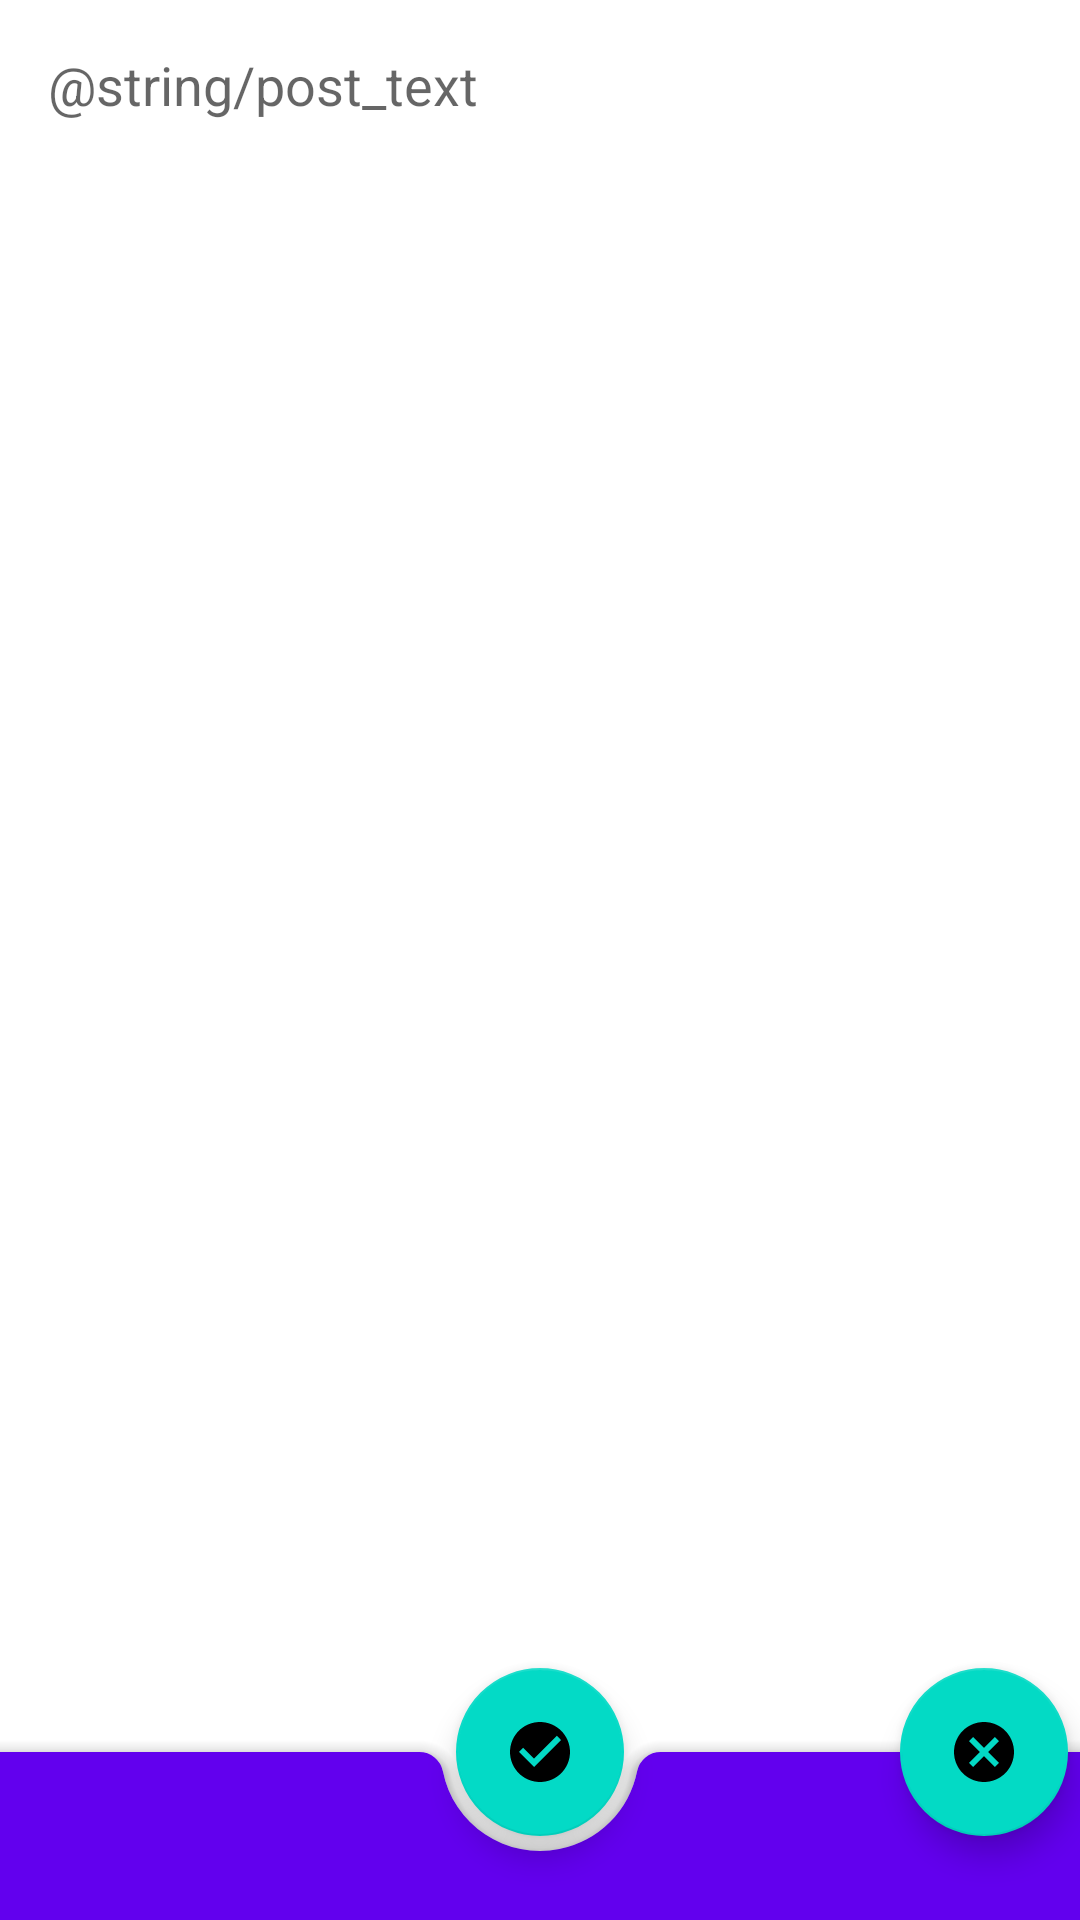

Icons on this 1080px×1920px Android screen, each with the point to tap as (x=x, y=y):
cancel: (x=984, y=1752)
check circle: (x=540, y=1752)
